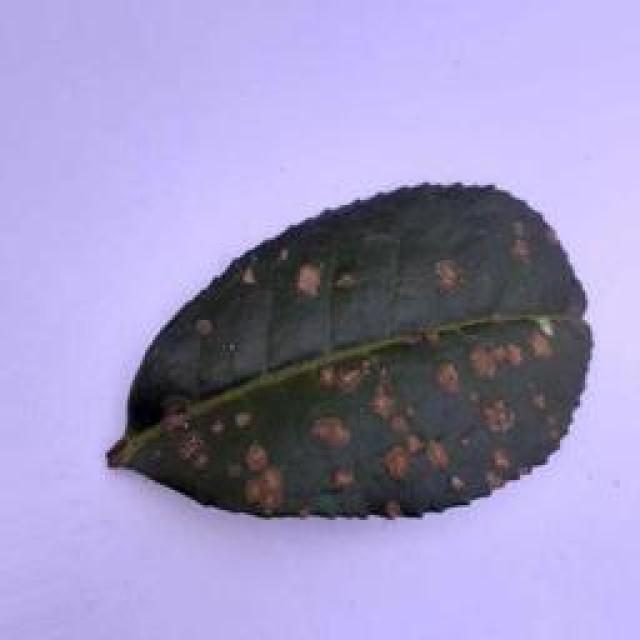Algal Leaf Spot: (94, 166, 599, 522)
